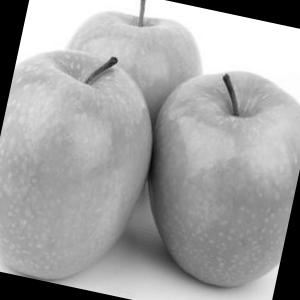fruit: (0, 22, 173, 292), (123, 38, 300, 298)
